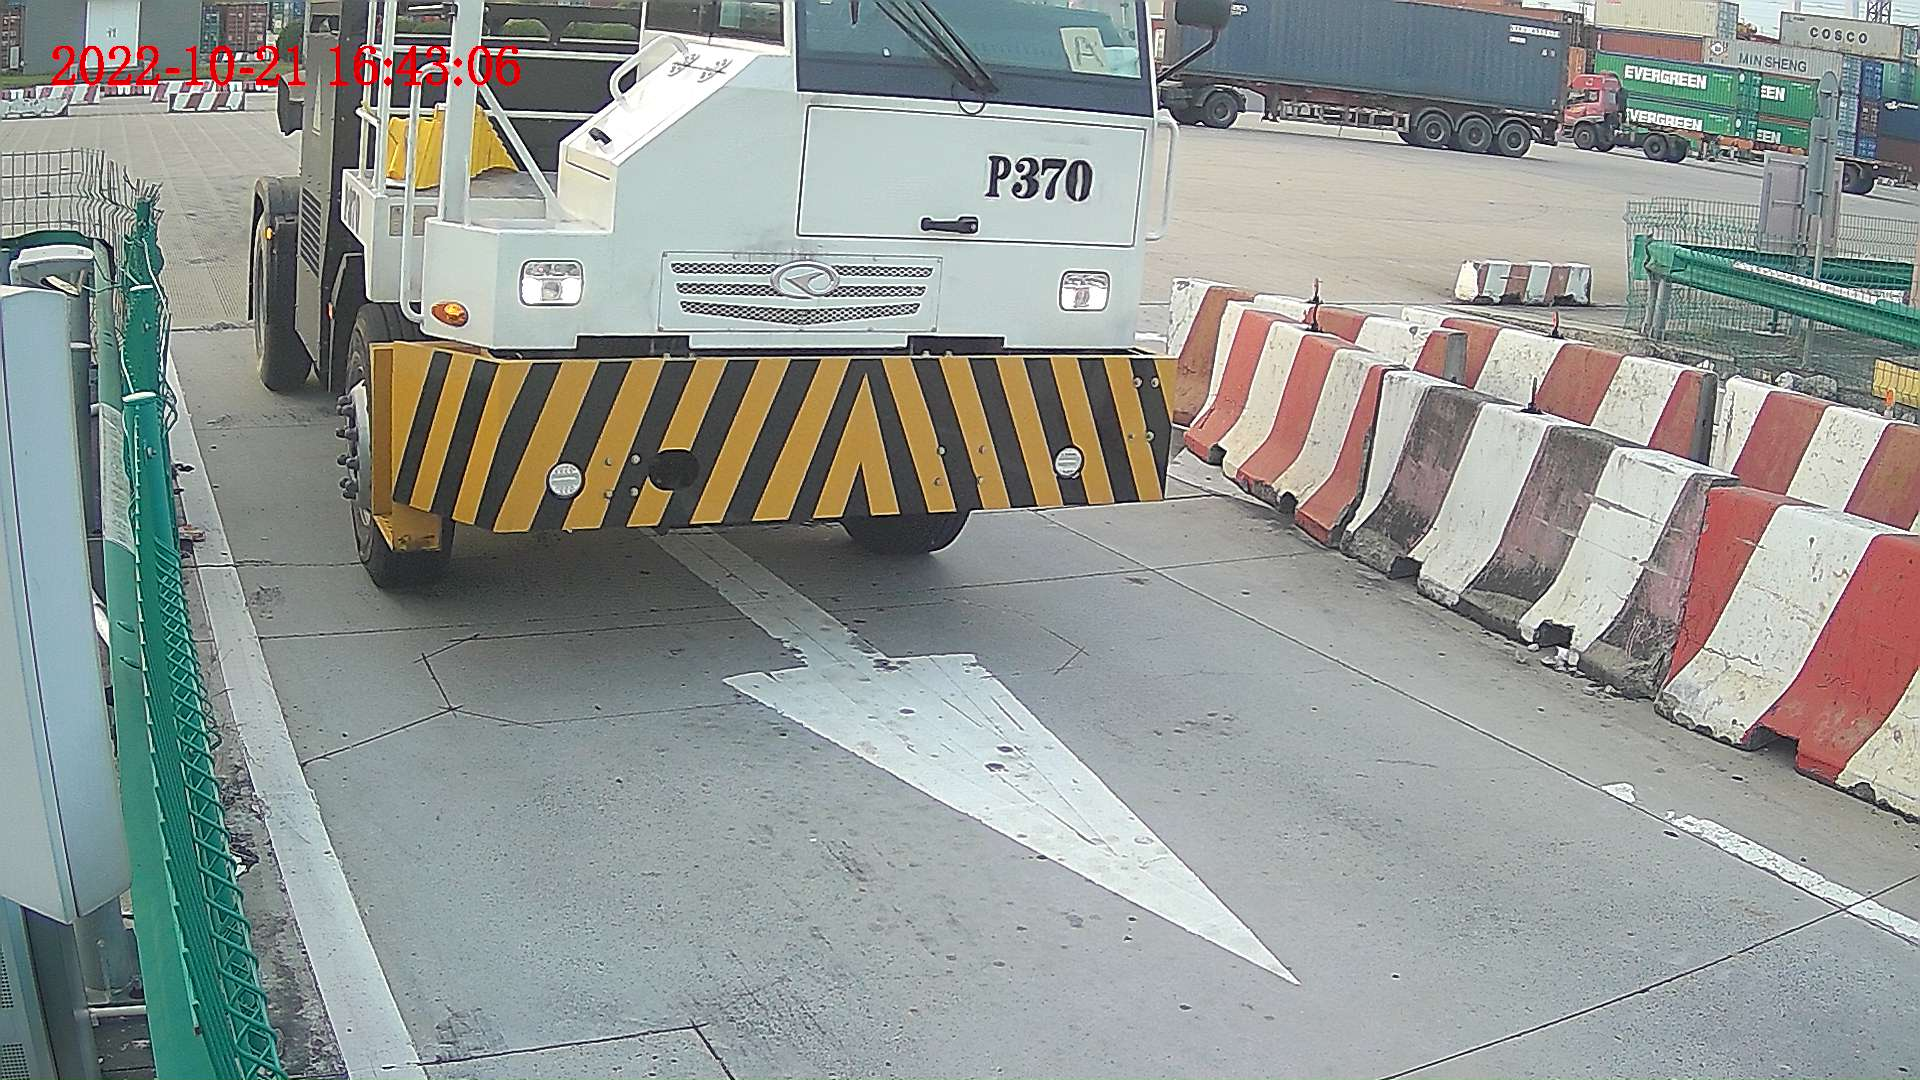head: (319, 1, 1175, 589)
